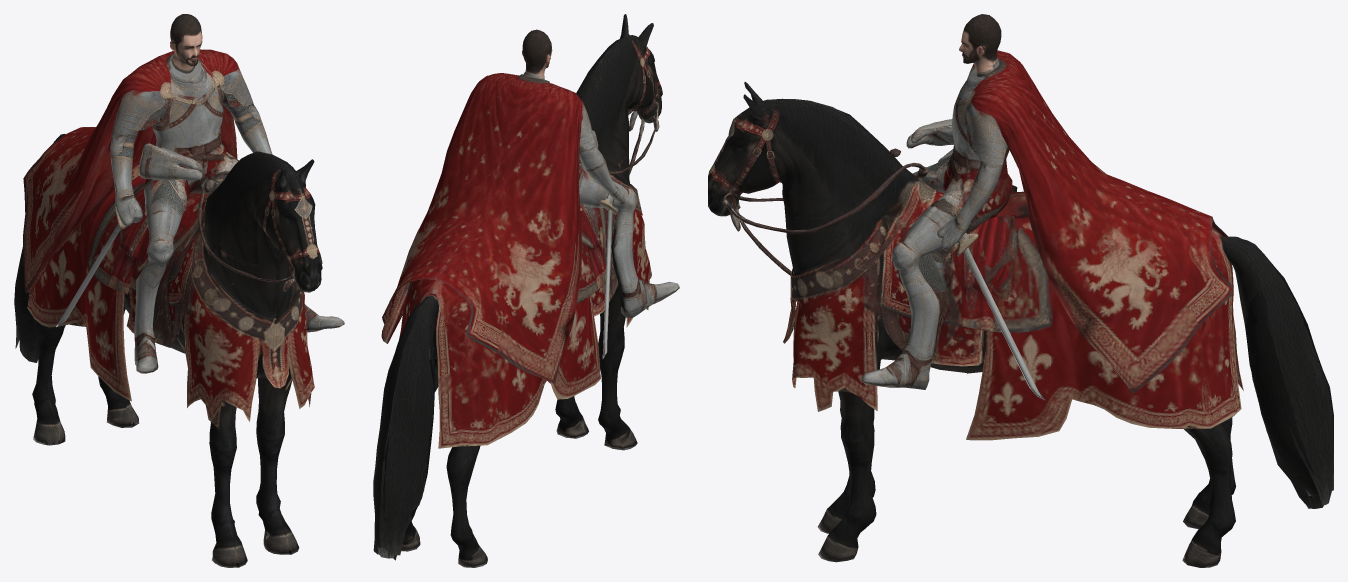
Rendered from Meshy_AI_model.glb.
The picture shows the model from 3 angles, left to right: view 1: azimuth 30°, elevation 25°; view 2: azimuth 150°, elevation 25°; view 3: azimuth 270°, elevation 25°; orthographic projection. The views are drawn at different scales.
Size of the model in its own units: 0.4086 by 0.9275 by 1.
1 material, 1 textured.
